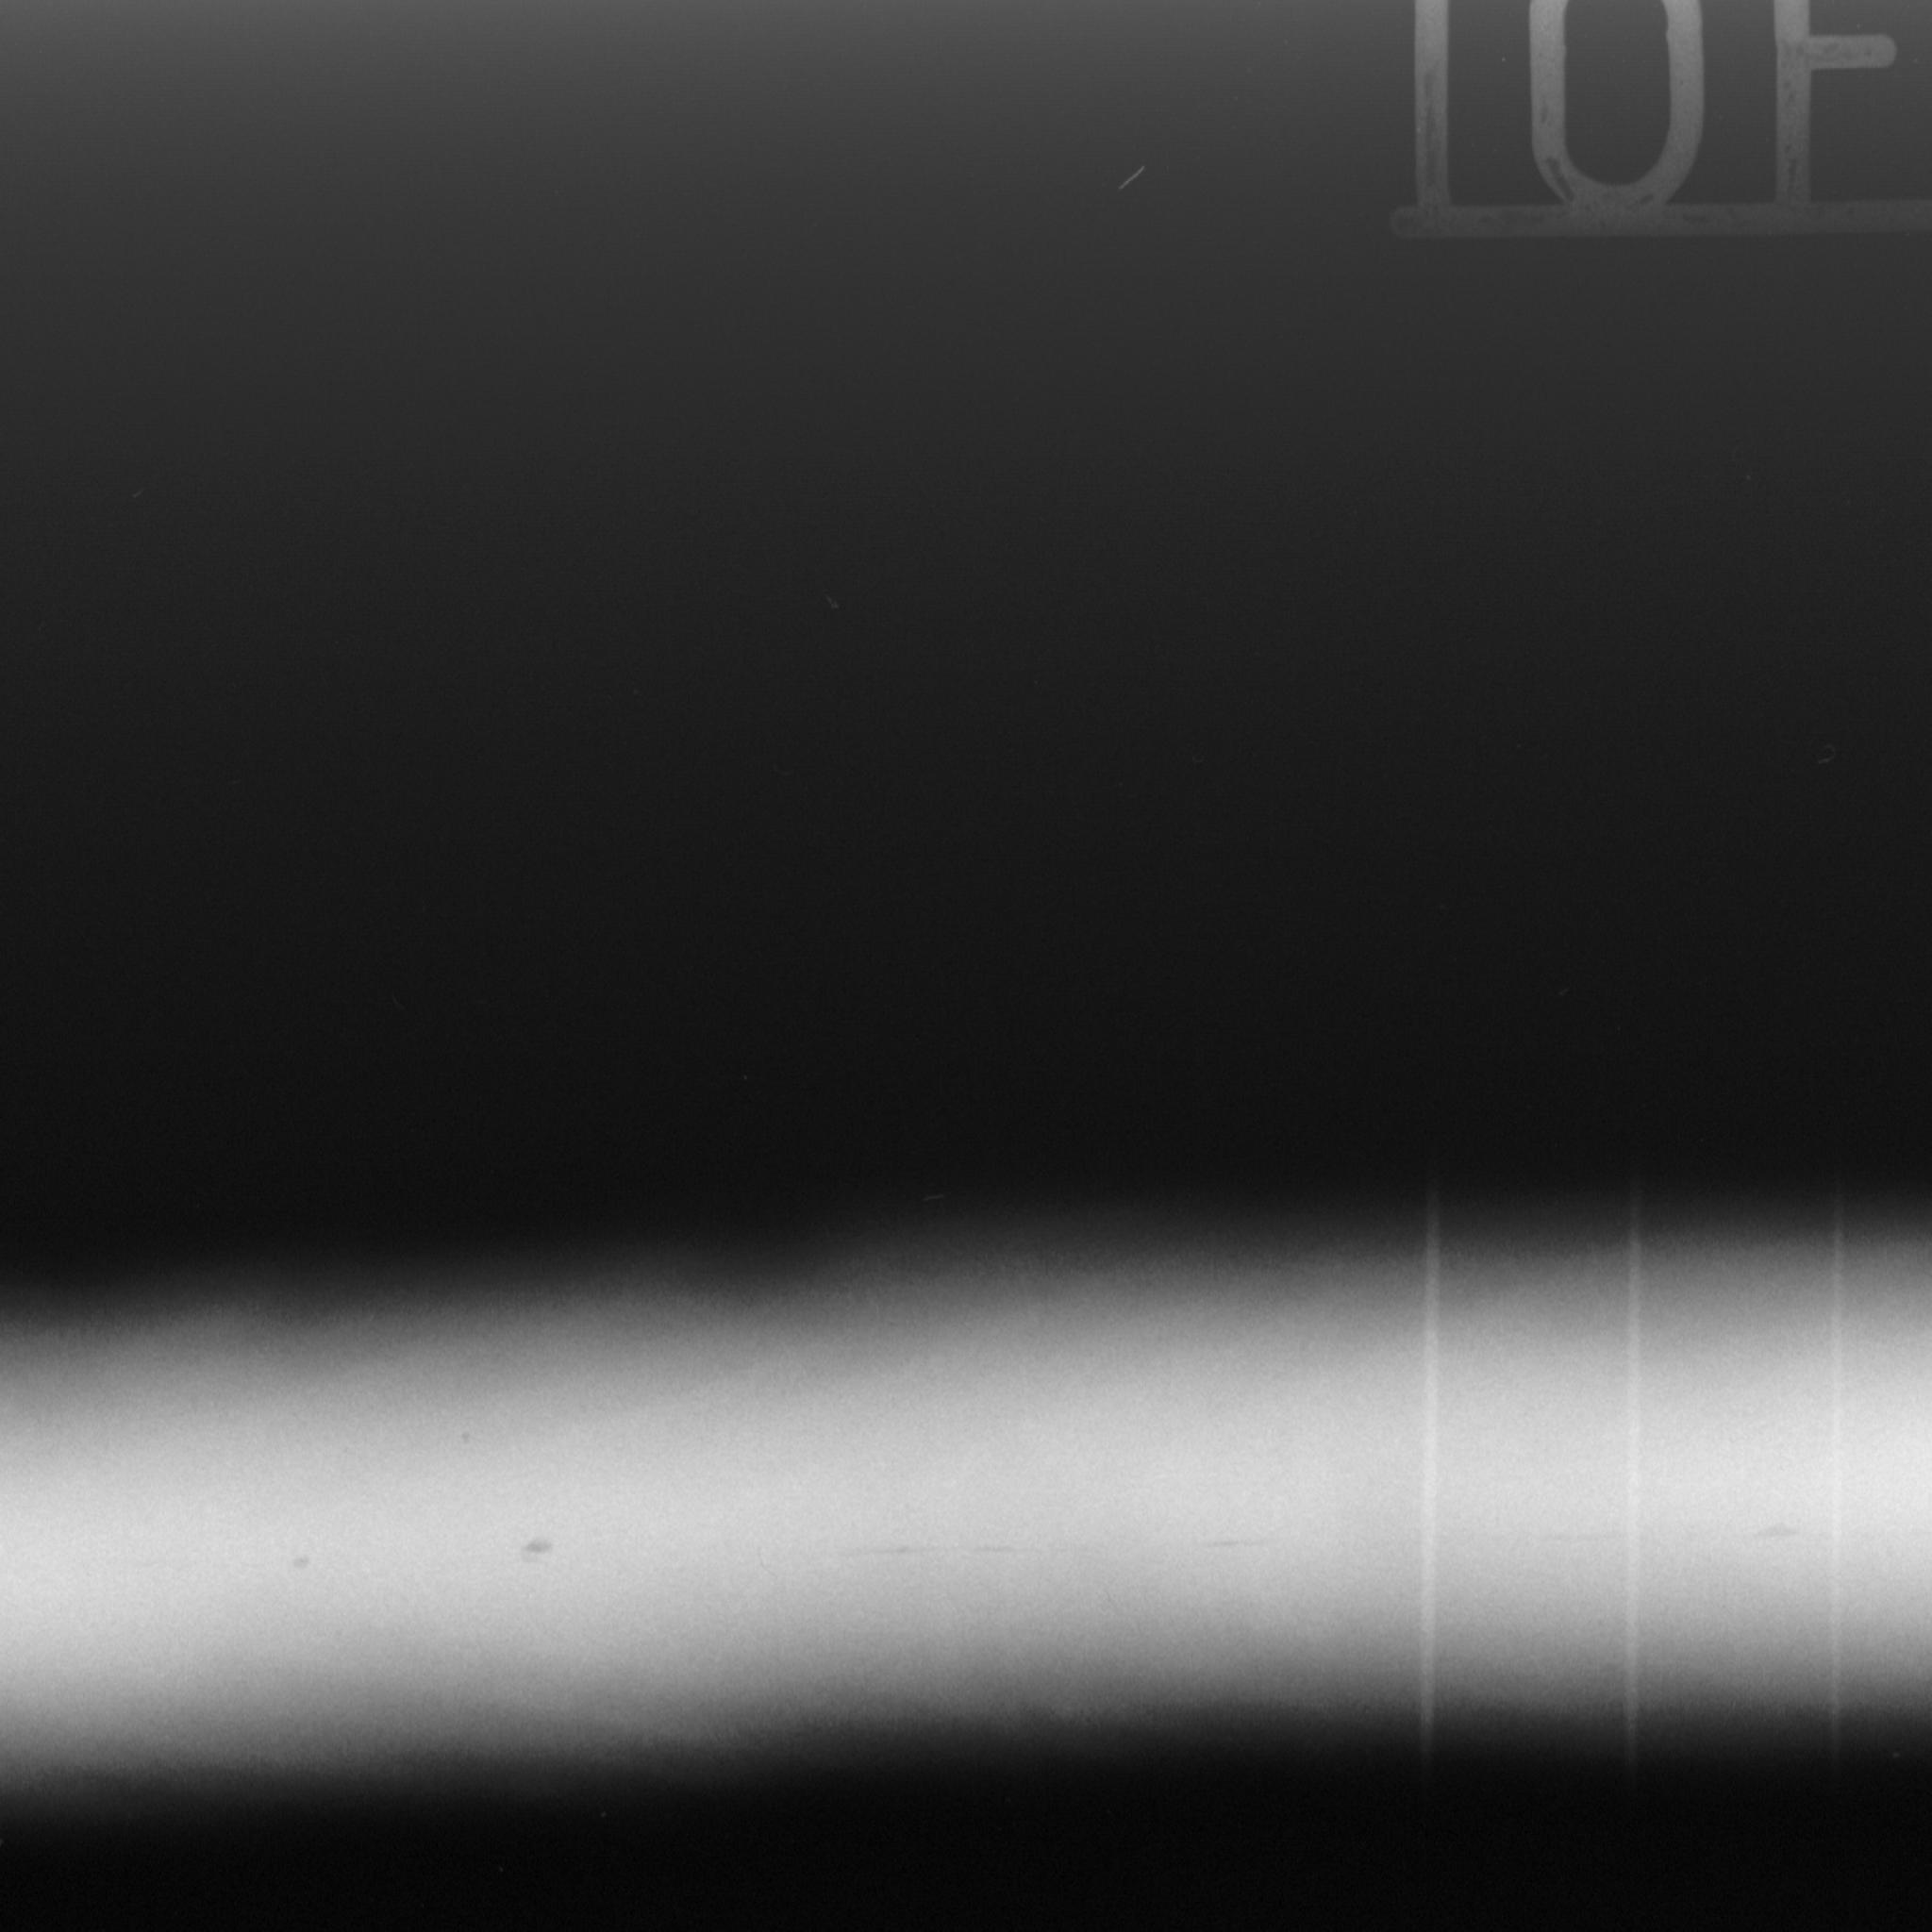Solda Ruim: (0, 1099, 1932, 1882)
